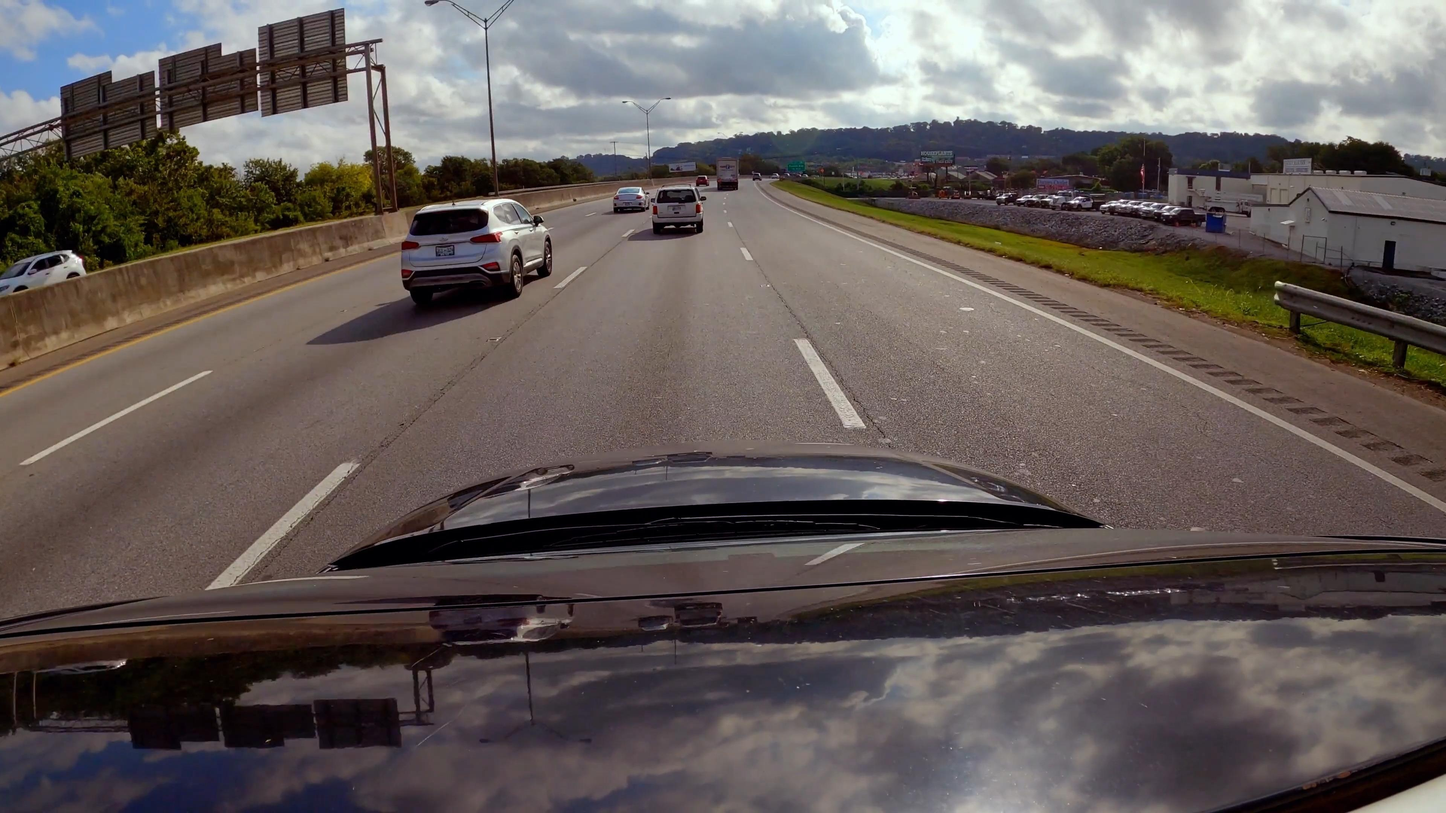Ice: (0, 177, 1446, 614)
